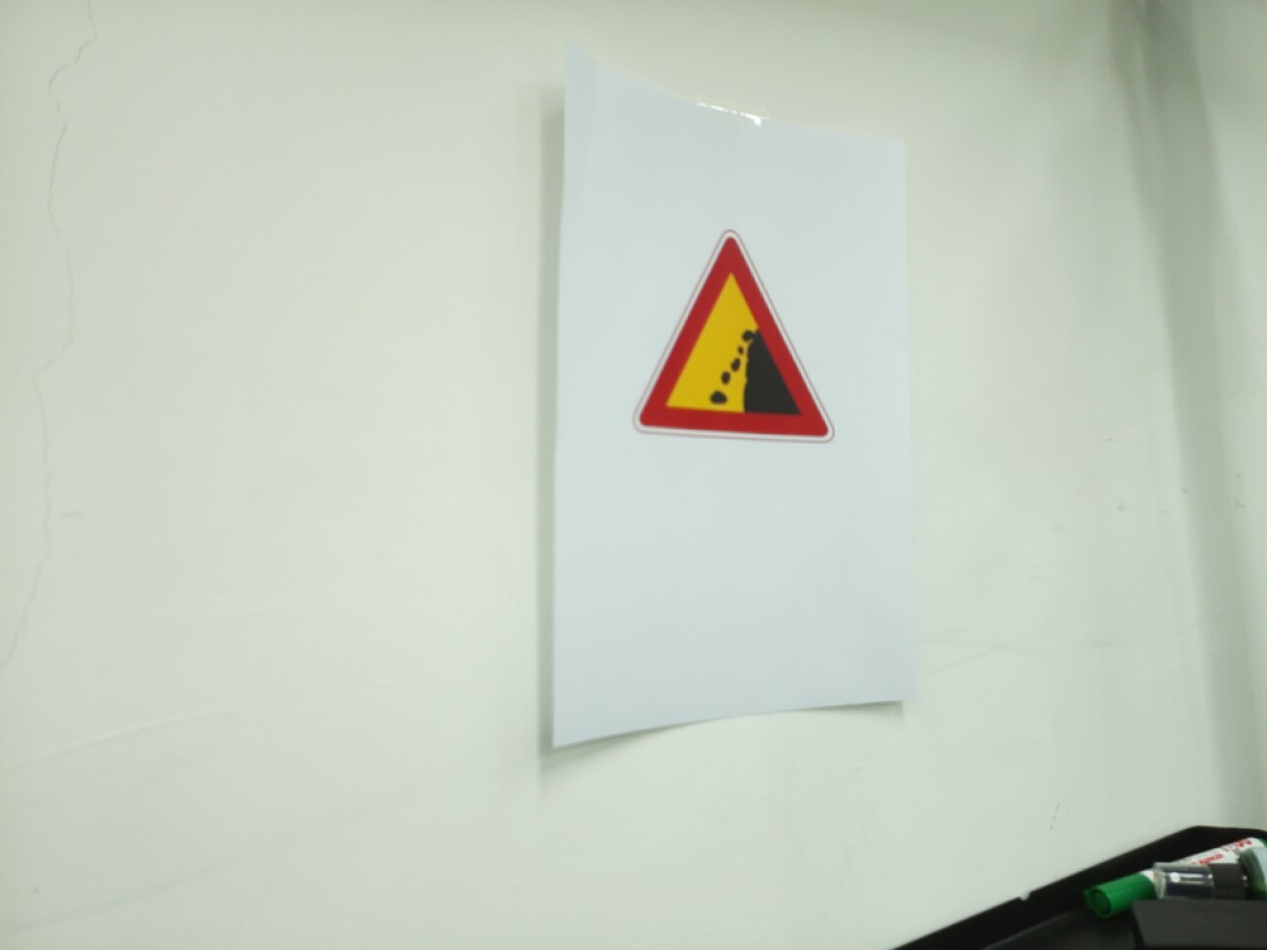falling_rocks: (633, 230, 835, 445)
